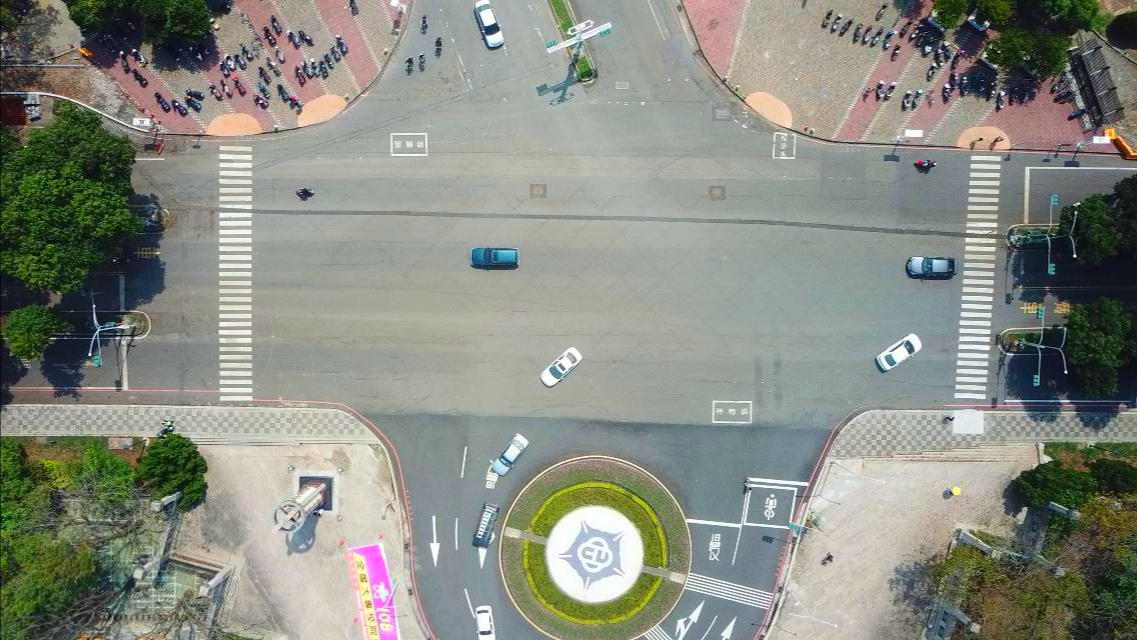vehicle: (539, 344, 587, 390), (876, 334, 922, 372), (490, 433, 529, 476), (470, 499, 500, 551), (473, 0, 504, 49), (468, 245, 521, 271), (906, 256, 960, 277), (472, 603, 494, 639)
